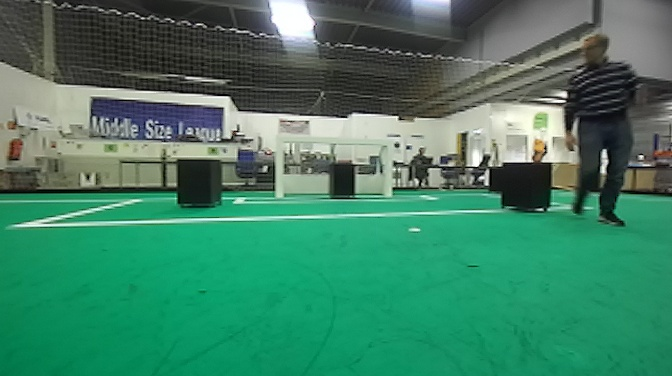goalpost: (269, 132, 286, 202), (380, 135, 398, 197)
human: (554, 33, 623, 233)
